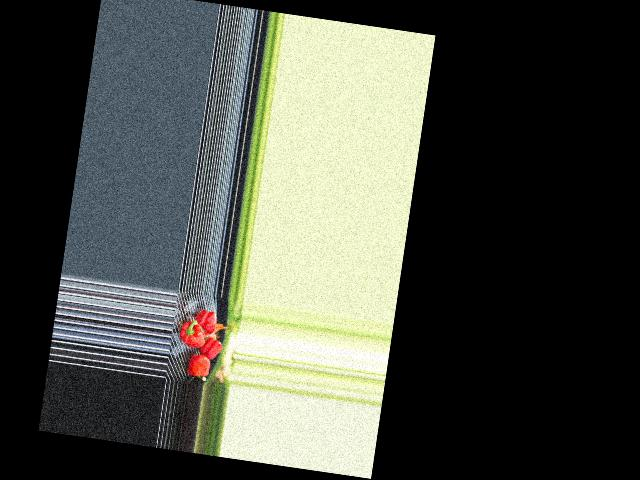bell_pepper: (194, 308, 219, 336)
